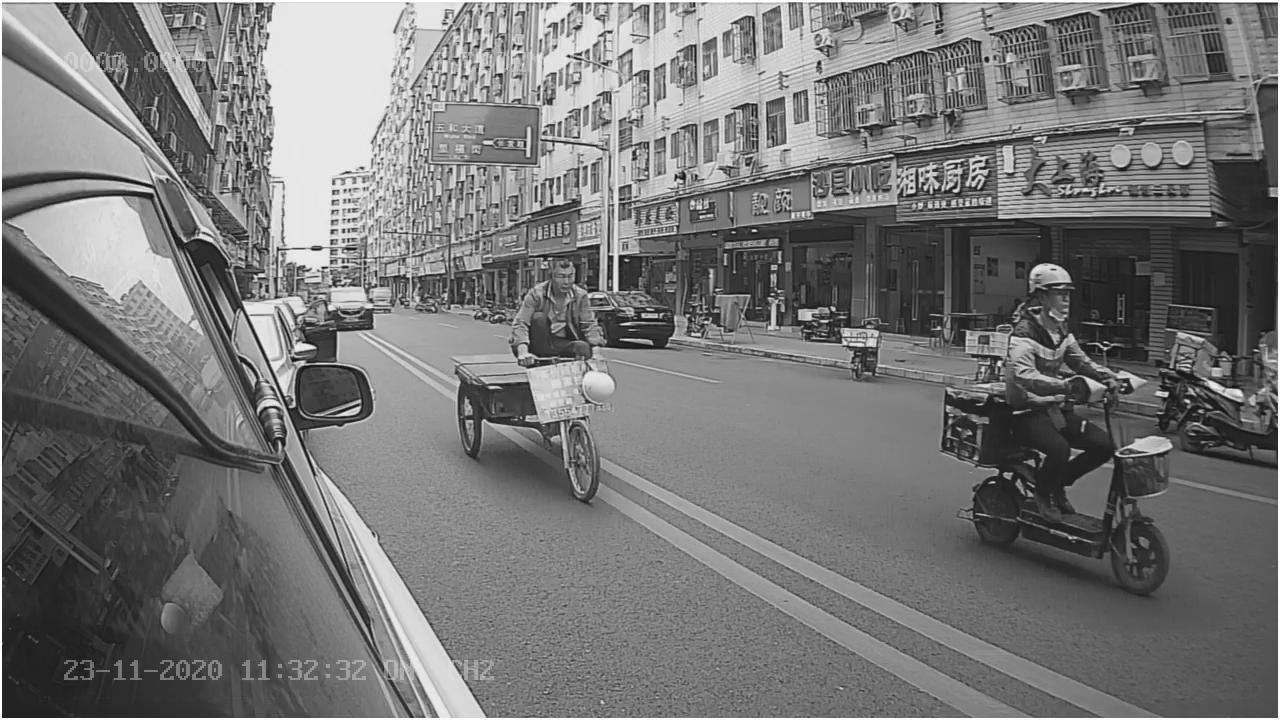person: (1000, 264, 1124, 392), (504, 260, 610, 366)
